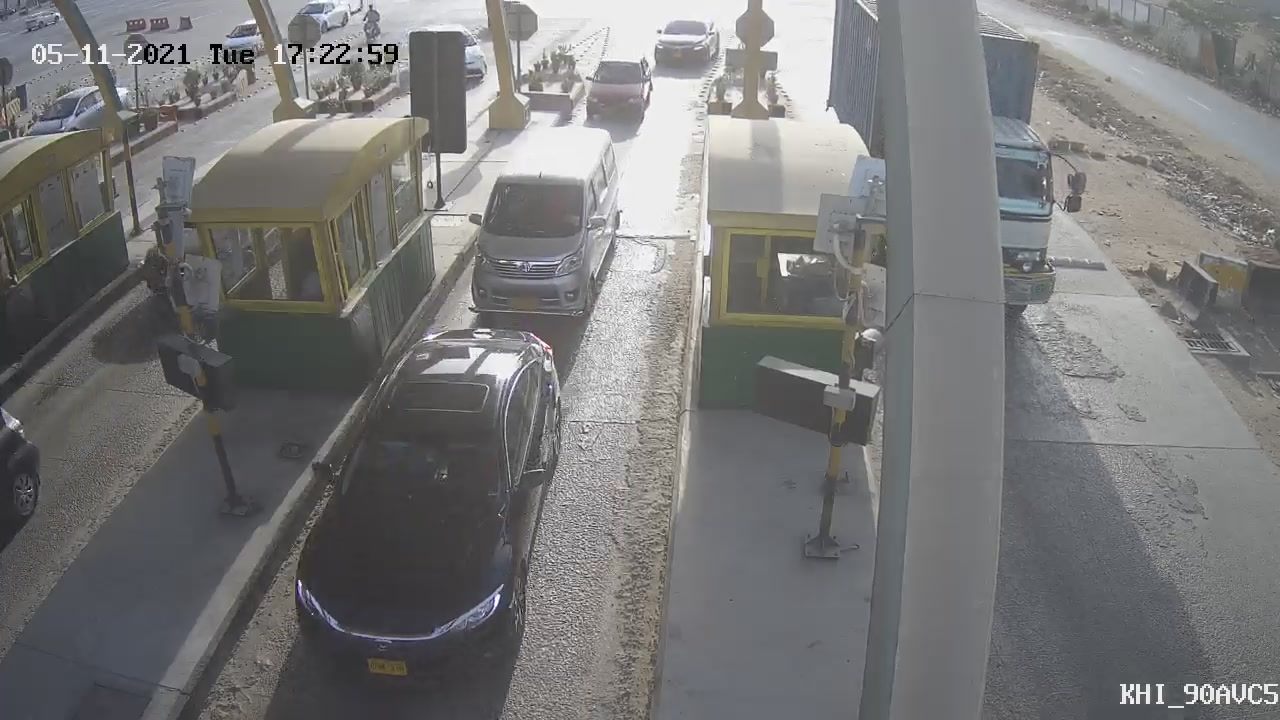F1: (451, 114, 637, 335)
